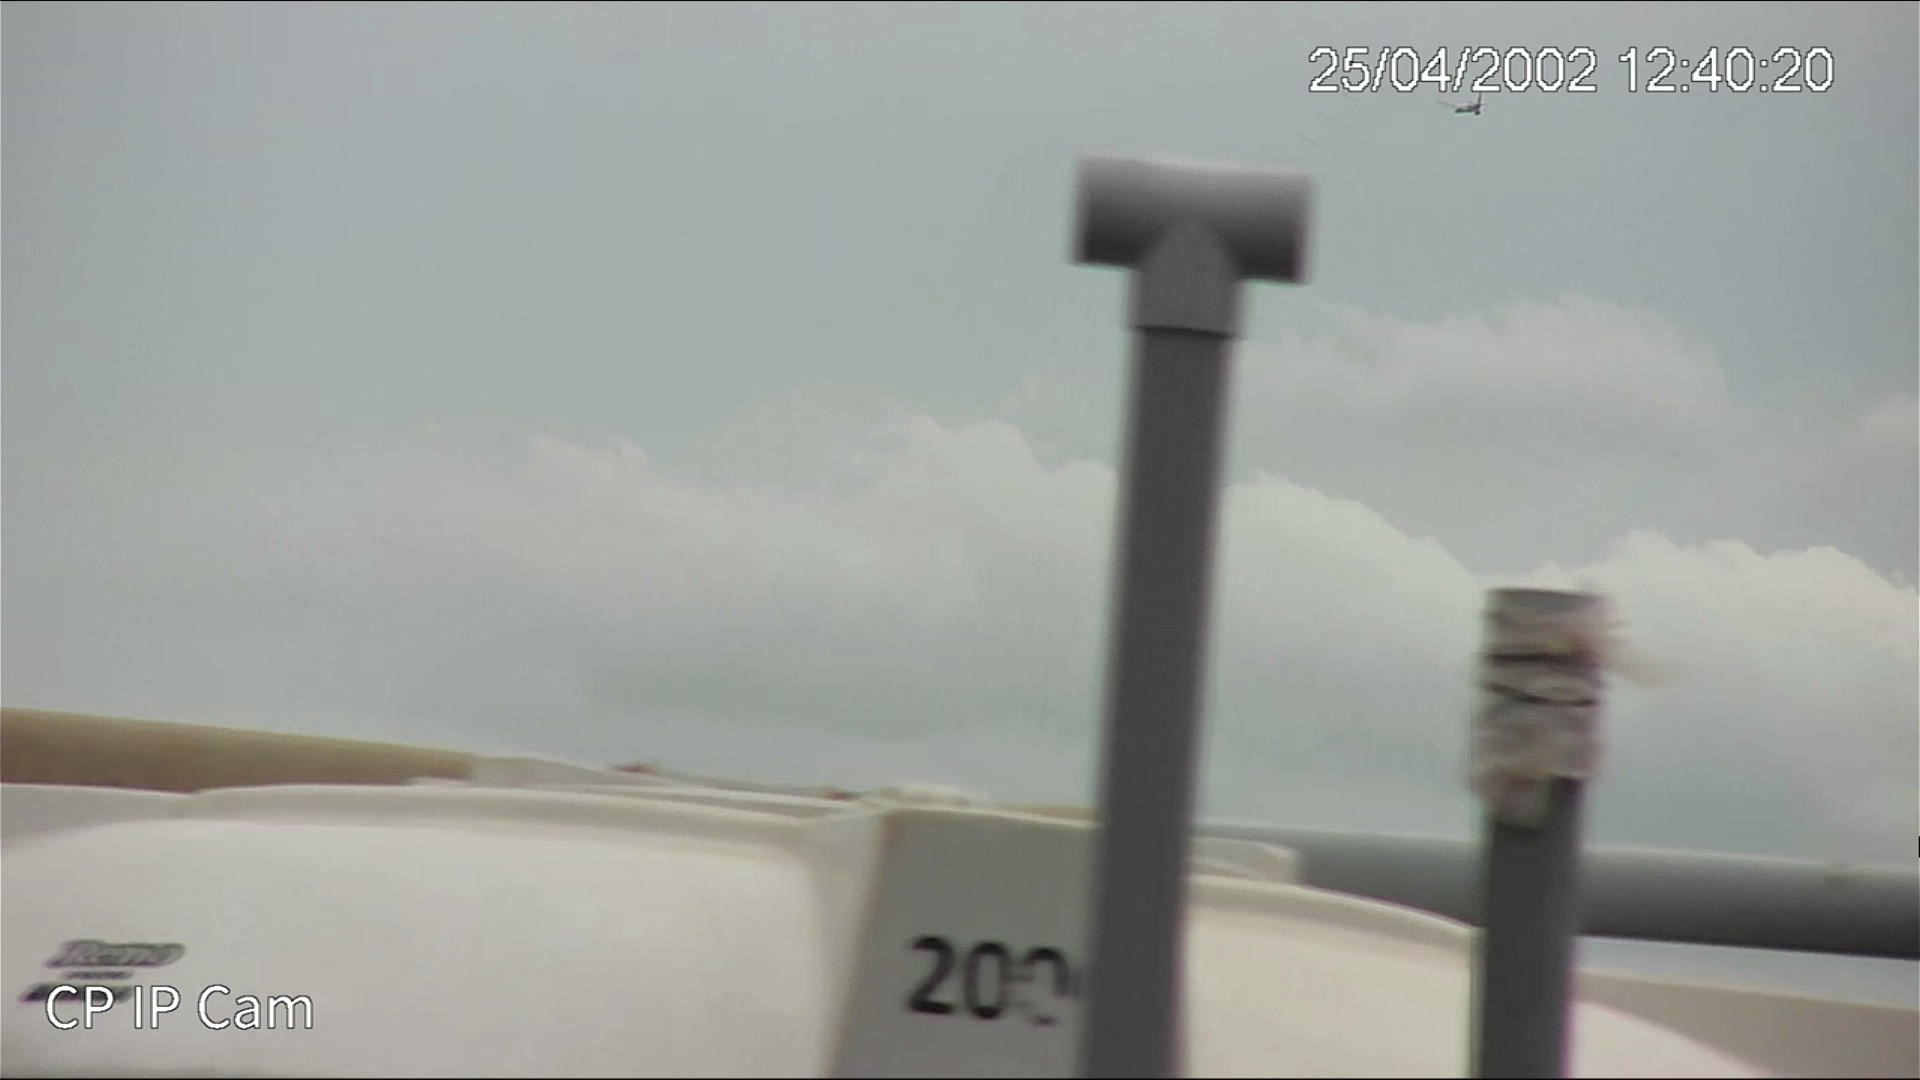SU_30: (1443, 92, 1484, 116)
